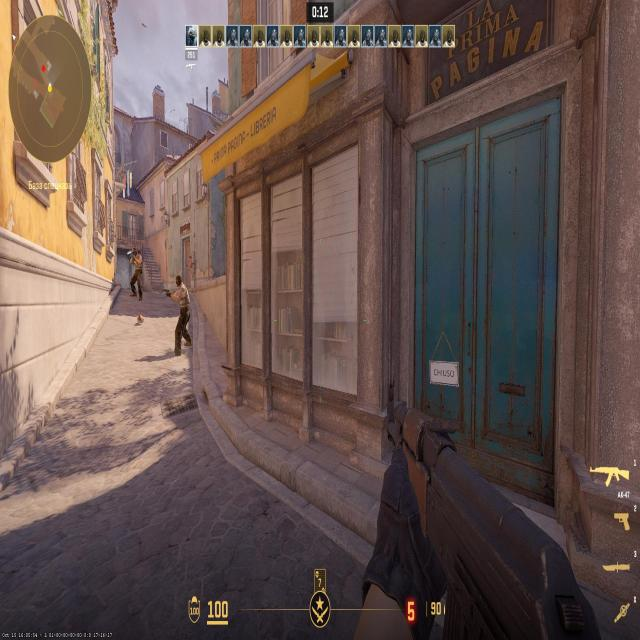T: (175, 277, 191, 327), (129, 247, 144, 294)
T_heat: (178, 280, 184, 298), (134, 250, 138, 260)
